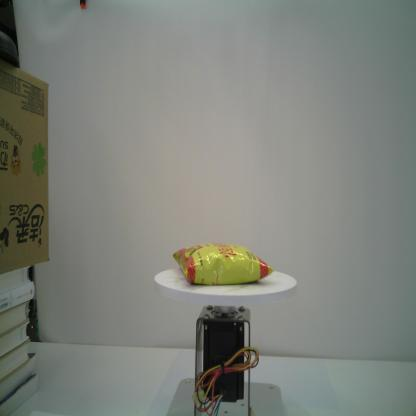Seasoner: (171, 242, 275, 285)
